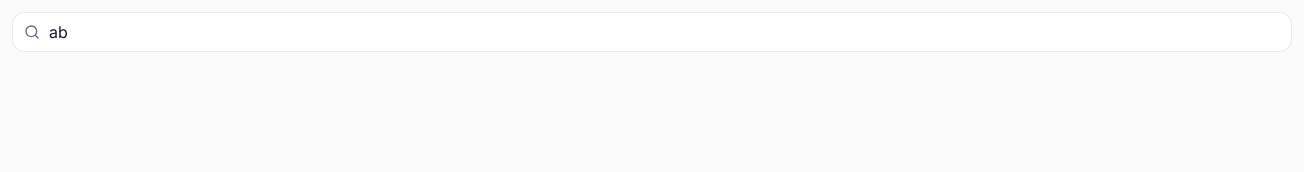
Scenario: SearchSelect › muestra emptyLabel cuando query >= minChars y results está vacío
Step 1. Click the field with placeholder "Buscar..." → (652, 32), box [12,12,1292,52]
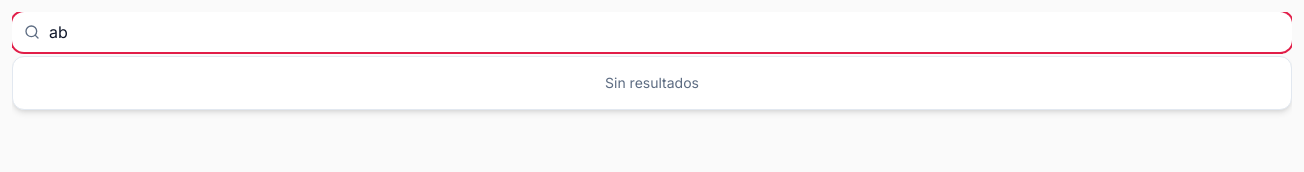
Check: the text "Sin resultados" is shown, box [605,74,699,91]
